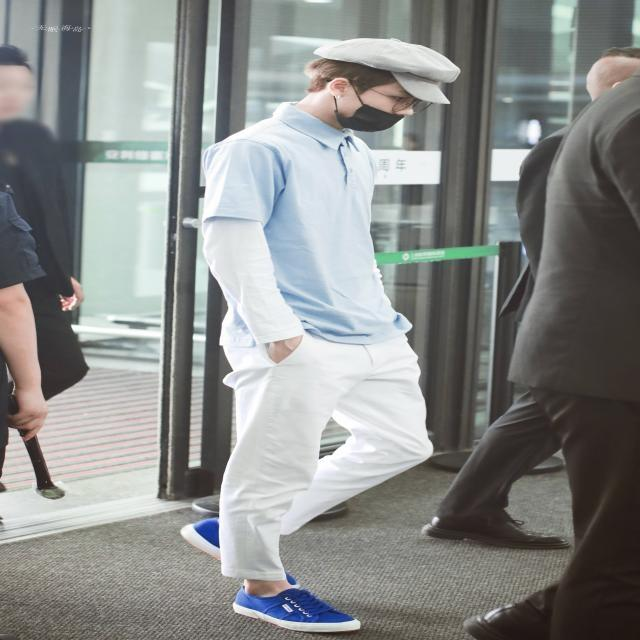hairnet: (349, 84, 416, 132)
